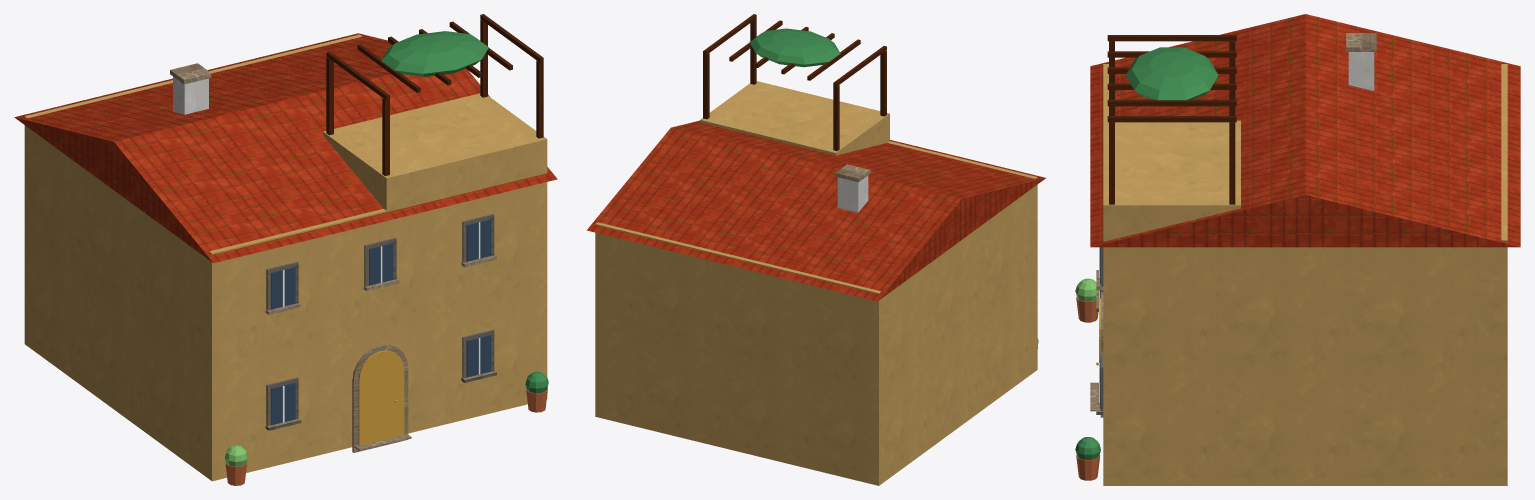
Rendered from mediterranea_w10_1.gltf.
3 renders of one model, left to right at view 1: azimuth 30°, elevation 25°; view 2: azimuth 150°, elevation 25°; view 3: azimuth 270°, elevation 25°, orthographic. The views are drawn at different scales.
Visible parts, largest first — view 1: mediterranea_w10_1; view 2: mediterranea_w10_1; view 3: mediterranea_w10_1.
Part boxes in pixels (left/top/right/bottom): mediterranea_w10_1: left=14, top=14, right=557, bottom=485; mediterranea_w10_1: left=586, top=14, right=1045, bottom=485; mediterranea_w10_1: left=1075, top=14, right=1520, bottom=485.
Size of what is drawn, in the model's own units: 9.96 by 9.9 by 10.35.
Materials: 7 (4 with a texture image).
